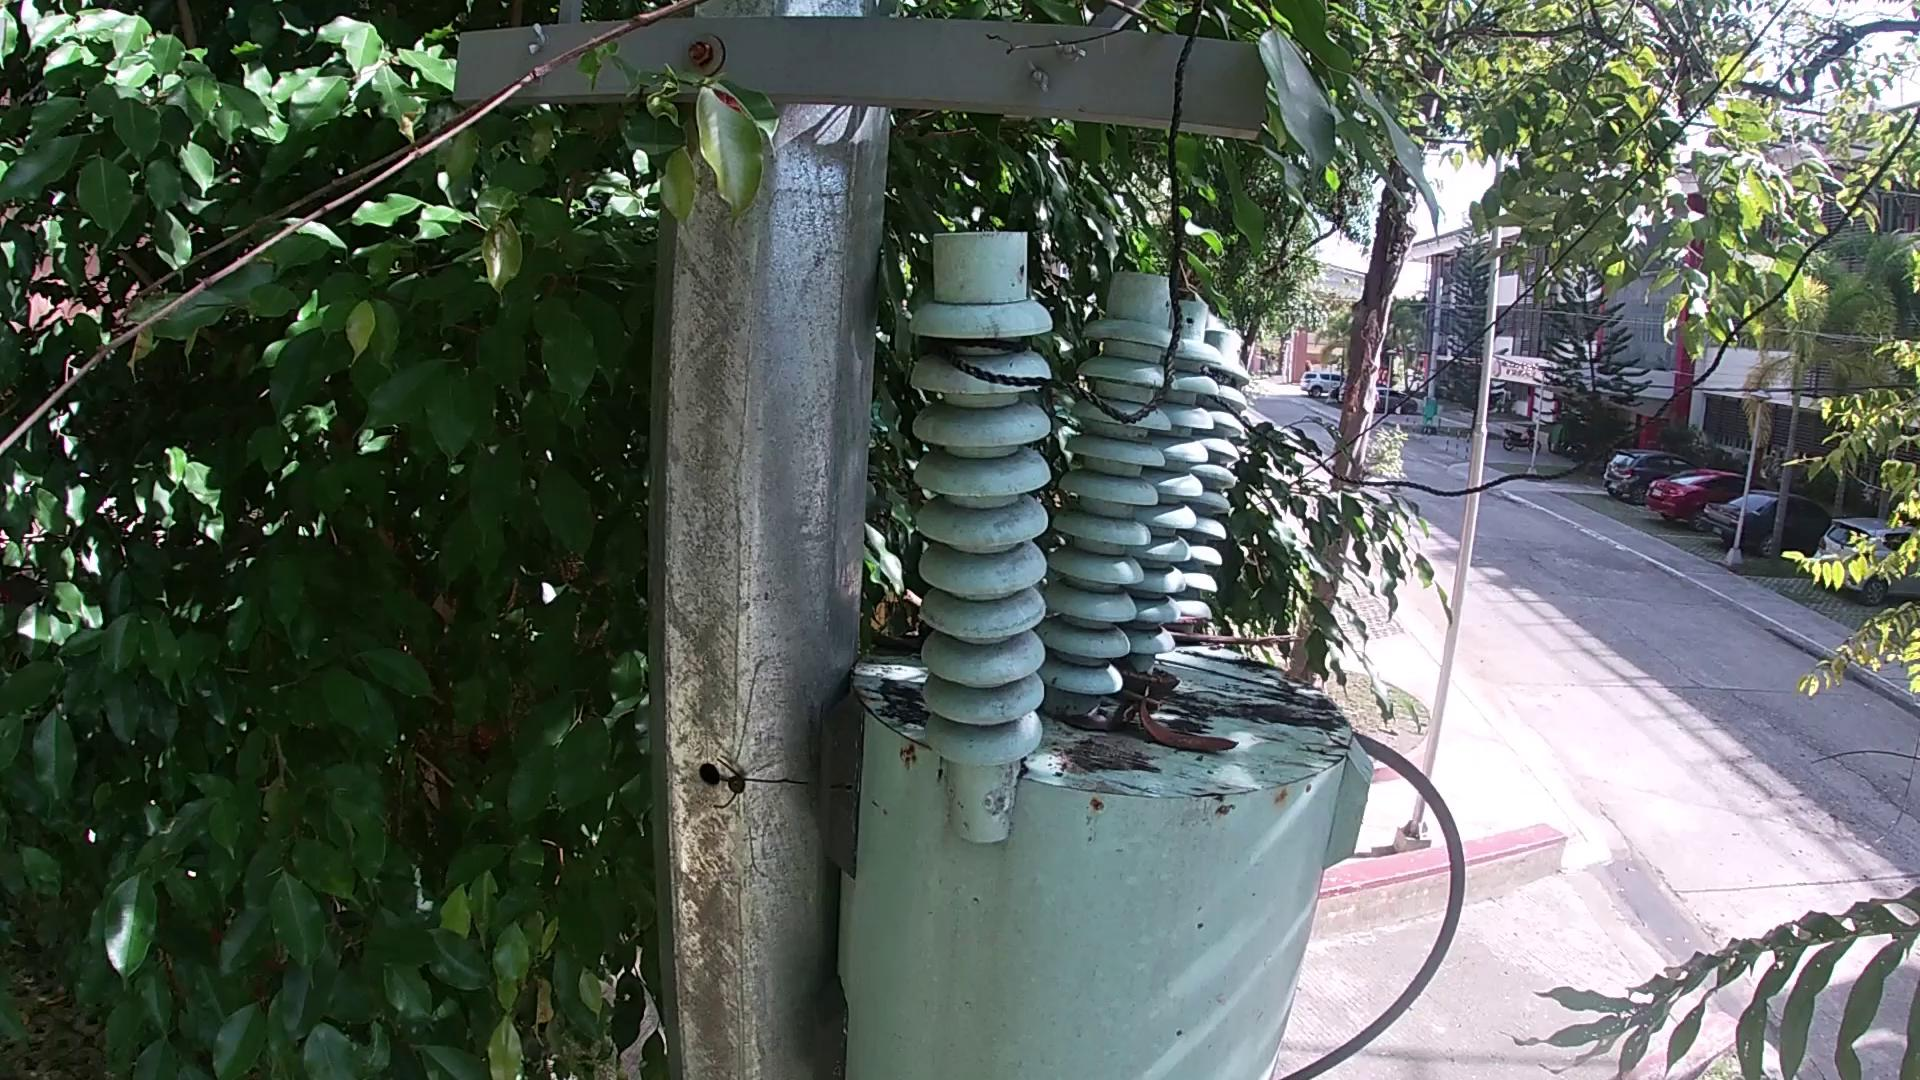leaf: (1075, 712, 1137, 736)
mahogany fruit: (1143, 709, 1251, 752), (1110, 662, 1182, 698)
tree branch: (4, 12, 1178, 452), (1162, 651, 1313, 703), (1163, 622, 1308, 654), (891, 589, 928, 612)
